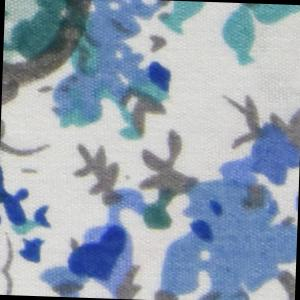Stain: (3, 1, 101, 99)
